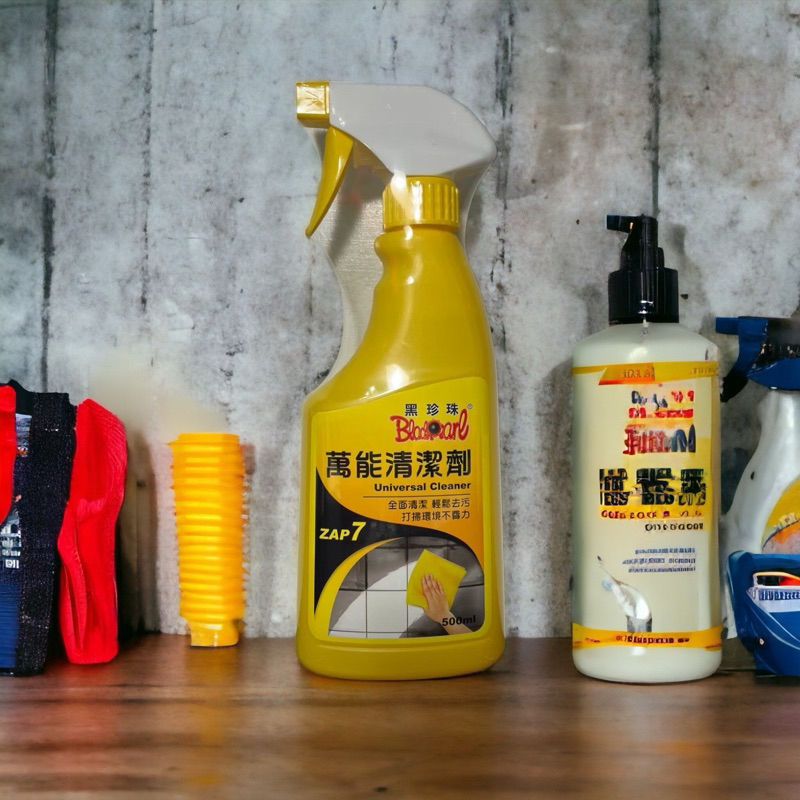cleaner: (271, 71, 511, 680), (547, 205, 740, 687), (708, 304, 796, 691)
